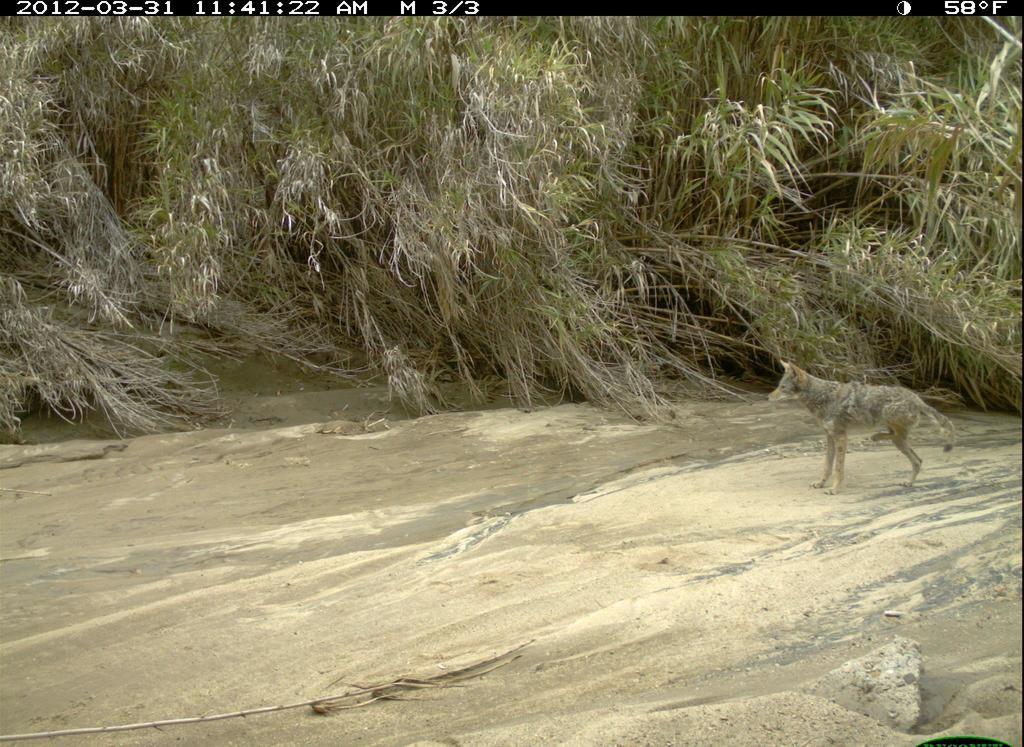coyote: (765, 355, 959, 498)
